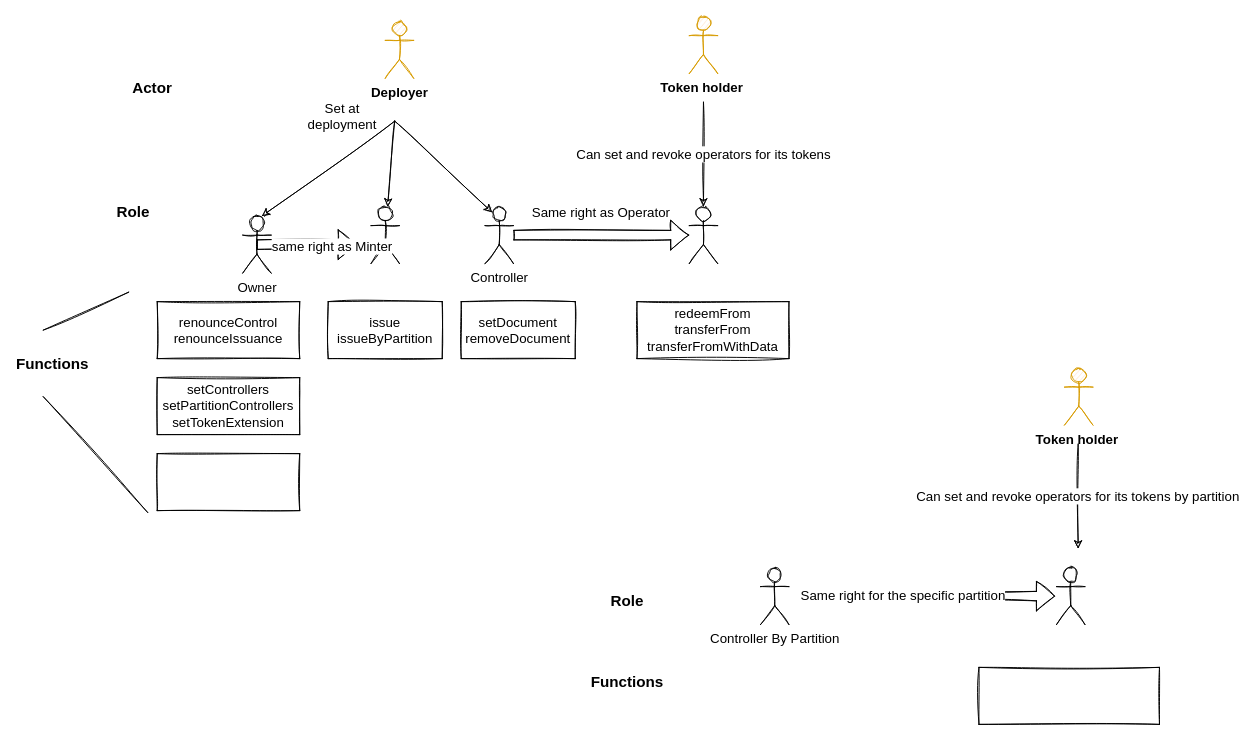
Image size: 1256x741. Some labels were removed from this diagram. The centre of each missing label's shape, as x and y in pixels:
migrate: [228,482]
Minter: [384,235]
Operator: [703,235]
Operator By Partition: [1070,596]
operatorTransferByPartition operatorRedeemByPartition: [1068,695]
